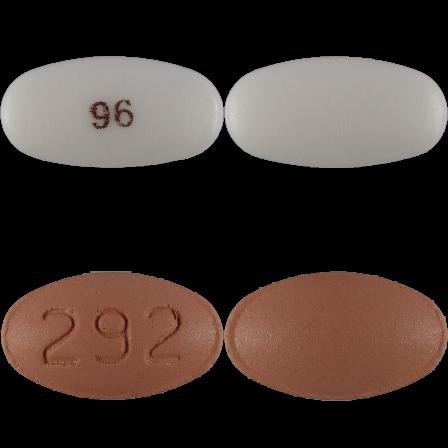53808-0935: (0, 0, 224, 224)
